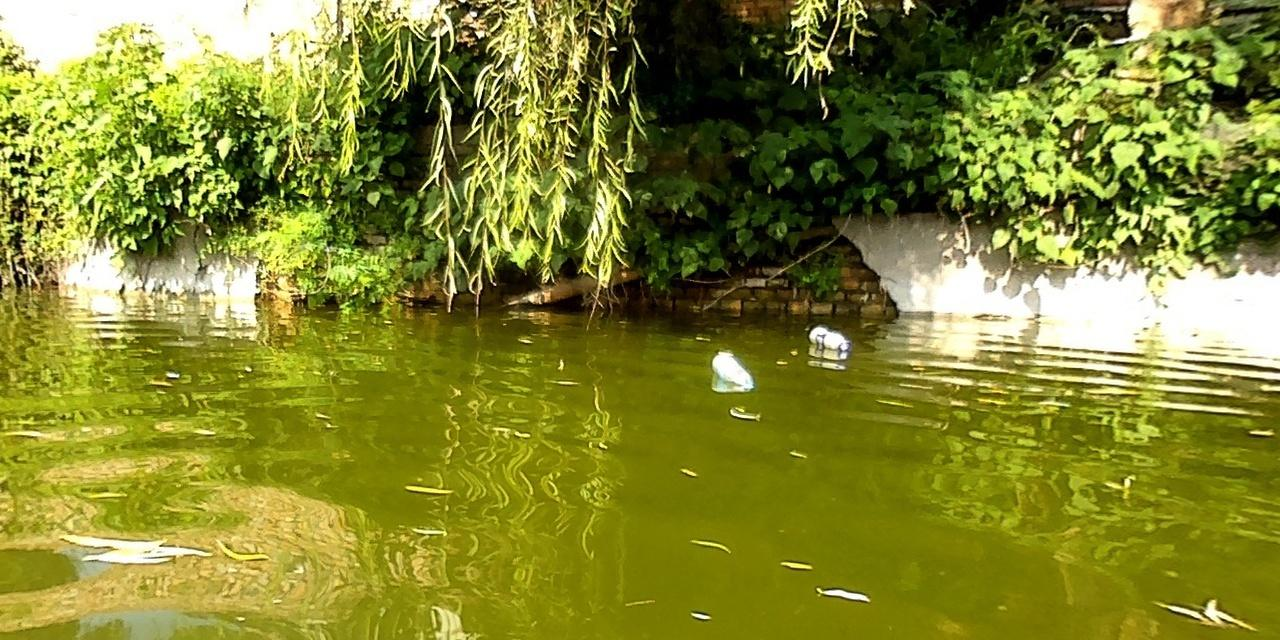bottle: (709, 349, 754, 388), (806, 324, 852, 352)
